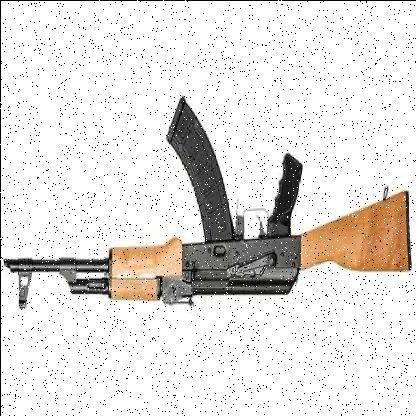rifle: (1, 95, 412, 326)
